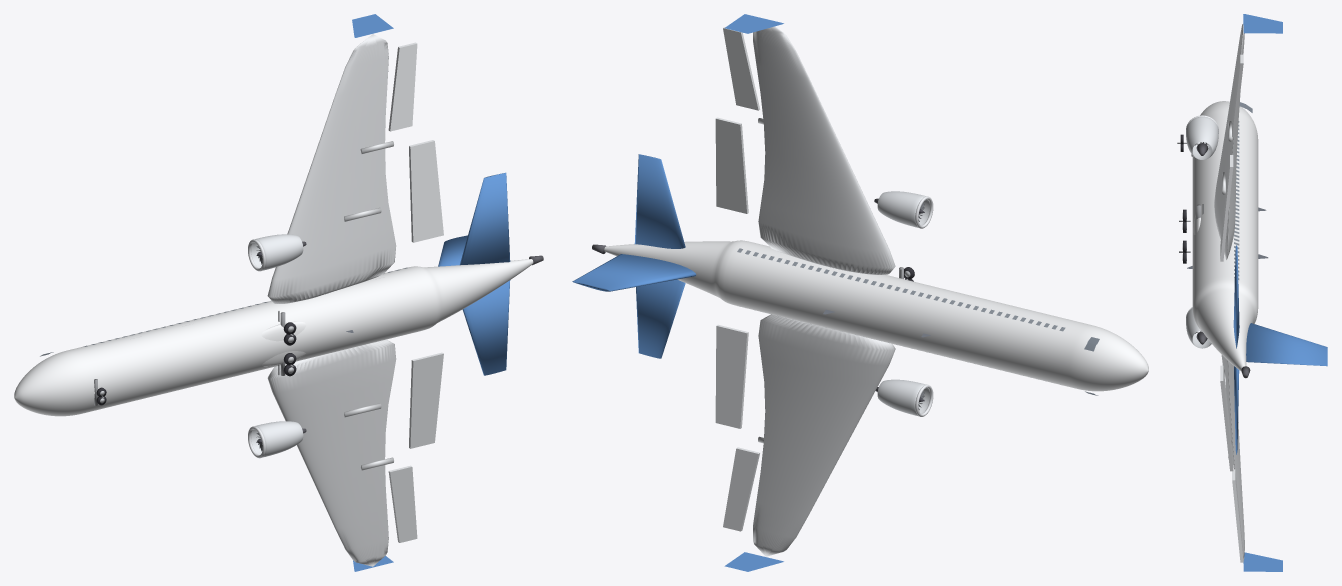
The picture shows the model from 3 angles, left to right: view 1: azimuth 30°, elevation 25°; view 2: azimuth 150°, elevation 25°; view 3: azimuth 270°, elevation 25°; orthographic projection.
Visible parts, largest first — view 1: Fuselage, Wing_R, Wing_L, HStab_R, HStab_L, Flap_R, Flap_L, Aileron_R, Aileron_L, Nacelle_1_0, Nacelle_-1_0, BellyFairing; view 2: Fuselage, Wing_L, Wing_R, HStab_R, Flap_L, HStab_L, Fin, Flap_R, Aileron_L, Aileron_R, Nacelle_-1_0, Nacelle_1_0 (+1 smaller); view 3: Fuselage, Fin, Wing_R, Wing_L, Nacelle_1_0, Sharklet_R, Sharklet_L, Flap_R, Flap_L, HStab_R, Aileron_L, Nacelle_-1_0 (+3 smaller).
Part boxes in pixels (x1=…): Fuselage: x1=14, y1=259, x2=533, y2=416; Wing_R: x1=267, y1=34, x2=396, y2=303; Wing_L: x1=267, y1=339, x2=396, y2=566; HStab_R: x1=460, y1=172, x2=510, y2=265; HStab_L: x1=462, y1=280, x2=510, y2=375; Flap_R: x1=409, y1=140, x2=443, y2=242; Flap_L: x1=409, y1=352, x2=443, y2=448; Aileron_R: x1=388, y1=42, x2=417, y2=131; Aileron_L: x1=388, y1=465, x2=417, y2=542; Nacelle_1_0: x1=251, y1=234, x2=303, y2=270; Nacelle_-1_0: x1=251, y1=421, x2=303, y2=457; BellyFairing: x1=261, y1=321, x2=306, y2=366; Fuselage: x1=604, y1=240, x2=1148, y2=391; Wing_L: x1=753, y1=314, x2=895, y2=556; Wing_R: x1=753, y1=26, x2=895, y2=274; HStab_R: x1=634, y1=154, x2=685, y2=248; Flap_L: x1=715, y1=324, x2=748, y2=428; HStab_L: x1=636, y1=279, x2=685, y2=358; Fin: x1=572, y1=254, x2=696, y2=291; Flap_R: x1=715, y1=117, x2=748, y2=213; Aileron_L: x1=723, y1=447, x2=759, y2=531; Aileron_R: x1=723, y1=27, x2=760, y2=110; Nacelle_-1_0: x1=877, y1=379, x2=929, y2=416; Nacelle_1_0: x1=877, y1=191, x2=929, y2=227; Fuselage: x1=1192, y1=101, x2=1258, y2=371; Fin: x1=1246, y1=323, x2=1327, y2=366; Wing_R: x1=1214, y1=24, x2=1244, y2=259; Wing_L: x1=1221, y1=355, x2=1244, y2=559; Nacelle_1_0: x1=1186, y1=116, x2=1218, y2=159; Sharklet_R: x1=1243, y1=14, x2=1282, y2=33; Sharklet_L: x1=1243, y1=552, x2=1282, y2=571; Flap_R: x1=1220, y1=155, x2=1233, y2=261; Flap_L: x1=1220, y1=365, x2=1233, y2=471; HStab_R: x1=1233, y1=245, x2=1239, y2=348; Aileron_L: x1=1232, y1=469, x2=1243, y2=562; Nacelle_-1_0: x1=1186, y1=308, x2=1211, y2=348.
Size of the model in its own units: 37.87 by 35.8 by 9.07.
